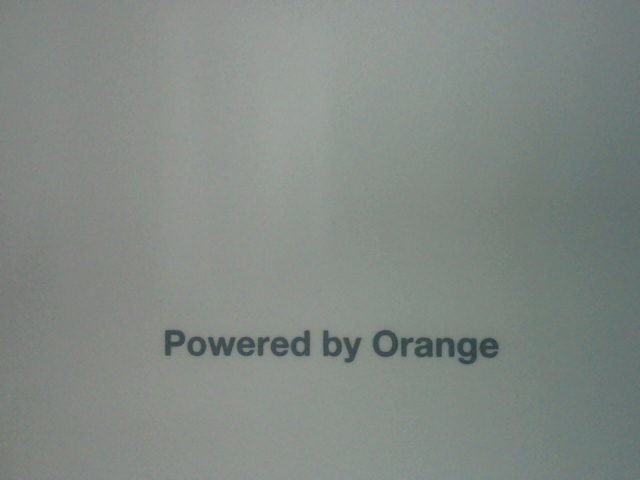AS_PowerByOrange: (156, 317, 517, 375)
